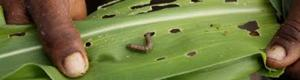fallarmy_worm: (126, 32, 163, 58)
